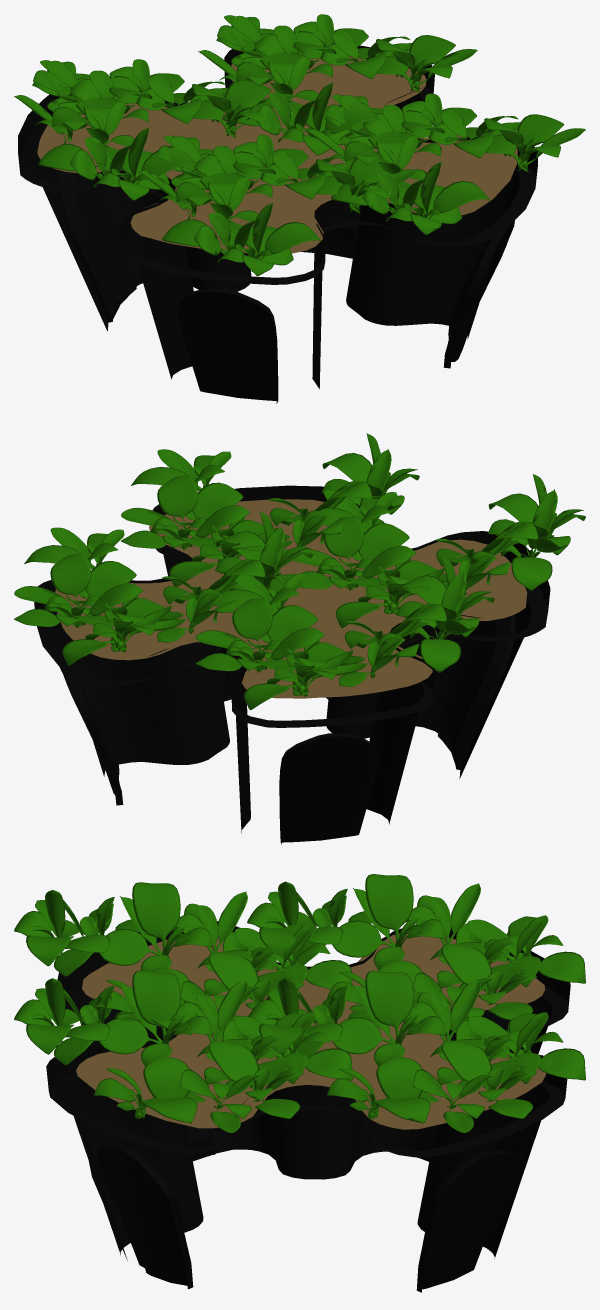
Rendered from planter-transformed.glb.
3 renders of one model, top to bottom at view 1: azimuth 30°, elevation 25°; view 2: azimuth 150°, elevation 25°; view 3: azimuth 270°, elevation 25°, orthographic. The views are drawn at different scales.
Parts seen in each view (by area): view 1: Bergenia Rotblum Set.067, Circle.033; view 2: Bergenia Rotblum Set.067, Circle.033; view 3: Bergenia Rotblum Set.067, Circle.033.
Boxes of the visible parts, box(x1,y1,x2,y2) form: Bergenia Rotblum Set.067: box(14, 14, 585, 275); Circle.033: box(18, 45, 537, 403); Bergenia Rotblum Set.067: box(14, 433, 585, 710); Circle.033: box(34, 485, 550, 844); Bergenia Rotblum Set.067: box(14, 874, 585, 1132); Circle.033: box(46, 921, 570, 1292).
Bounding box in the file's own units: 4.67 × 2.59 × 5.06.
